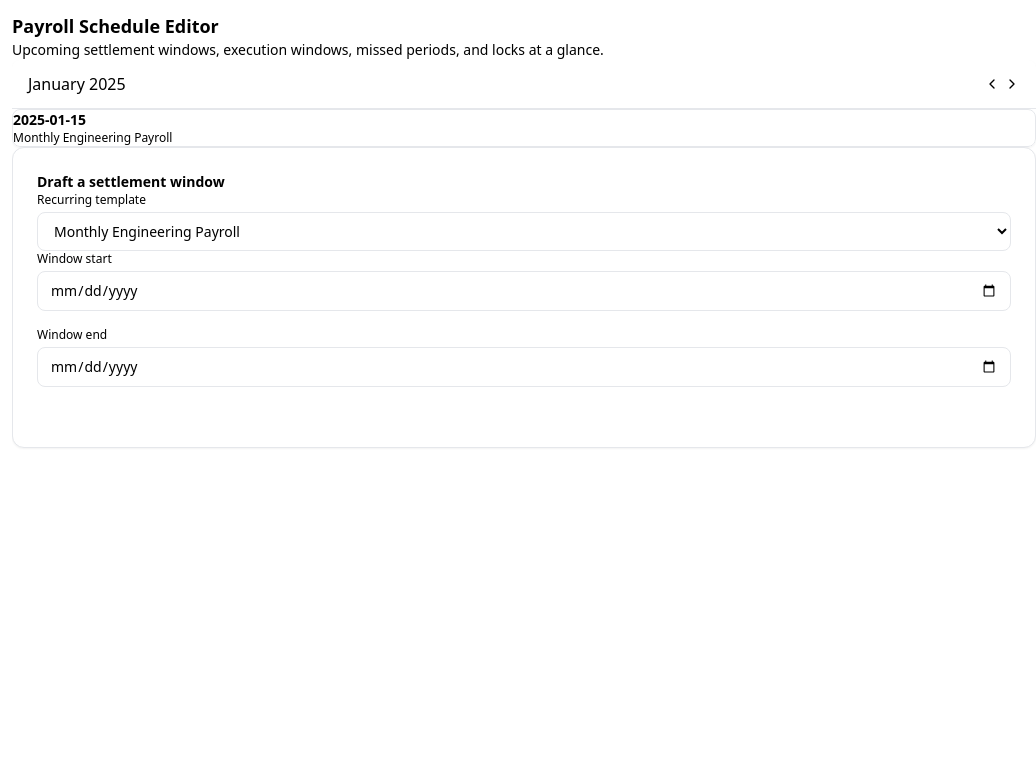
Test: PayrollScheduleEditor › saves a valid draft settlement window and lists it
Type "2025-02-01" into the date field labelled "Window start".
click(524, 291); type("2025-02-01")  # box [37, 271, 1011, 311]
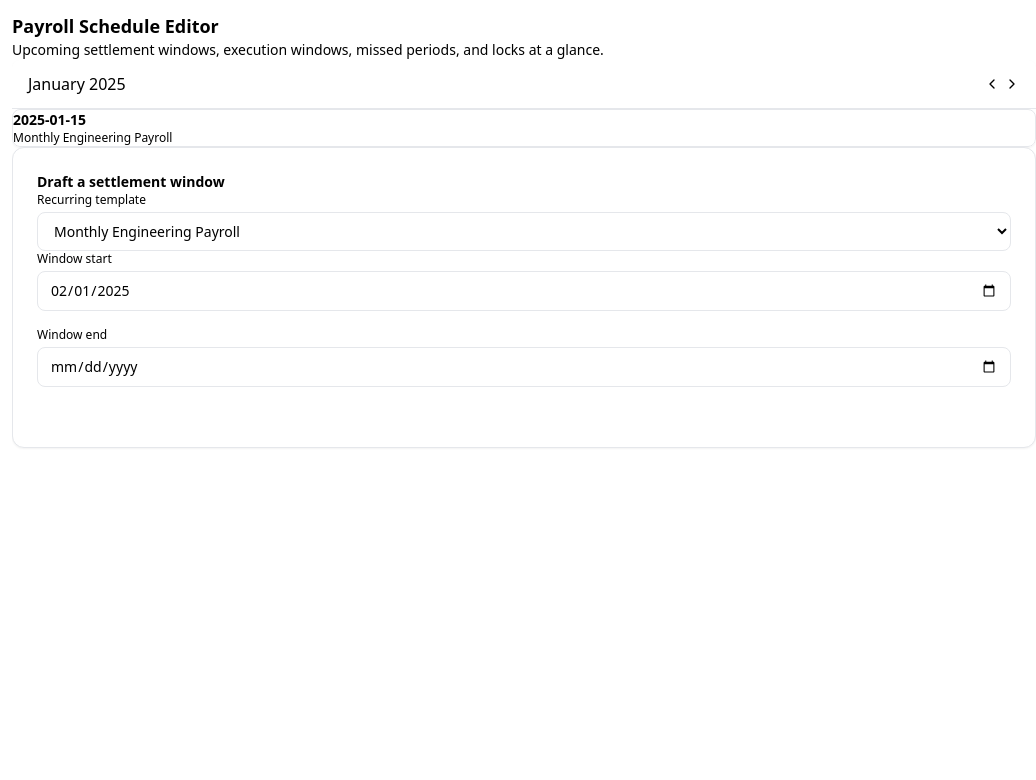
Type "2025-02-10" into the date field labelled "Window end".
click(524, 367); type("2025-02-10")  # box [37, 347, 1011, 387]
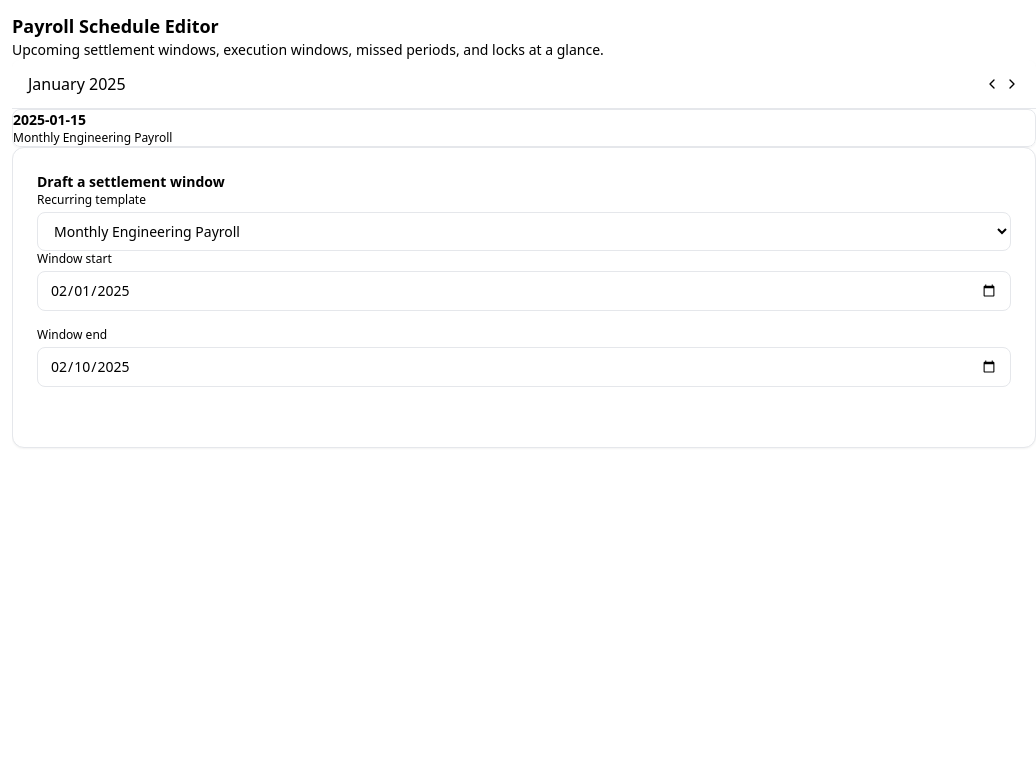
Click the button "Save draft window".
click(124, 405)  # box [37, 387, 212, 423]
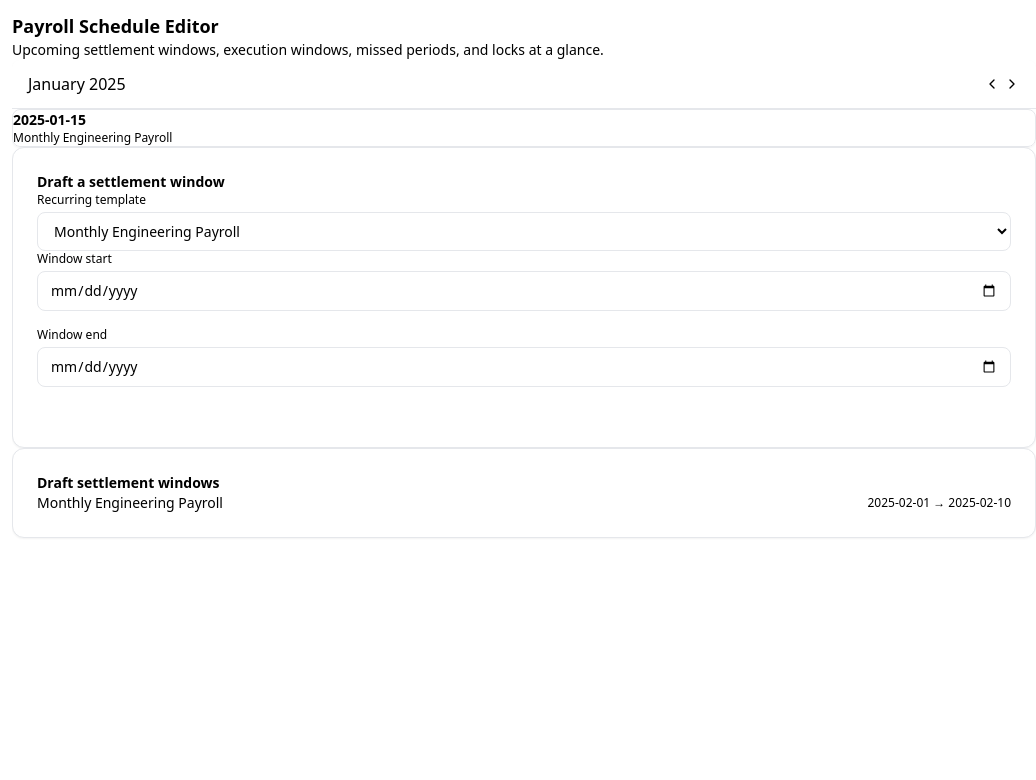
Expected: the heading "Draft settlement windows" is shown, [37, 473, 220, 492]
Expected: the text "2025-02-01 → 2025-02-10" is shown, [868, 495, 1011, 511]
